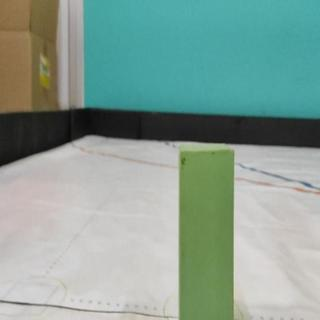greenbox: (177, 143, 236, 320)
